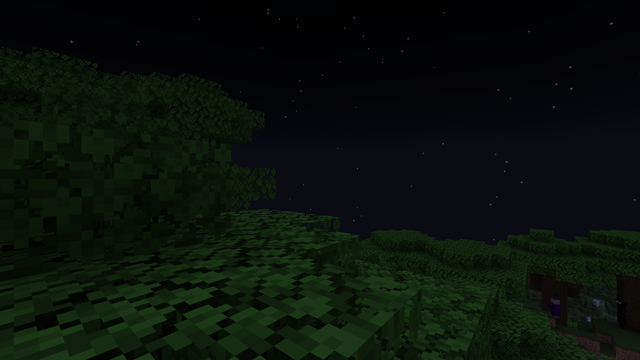endermens: (616, 297, 626, 330)
sorcieres: (551, 295, 559, 318)
